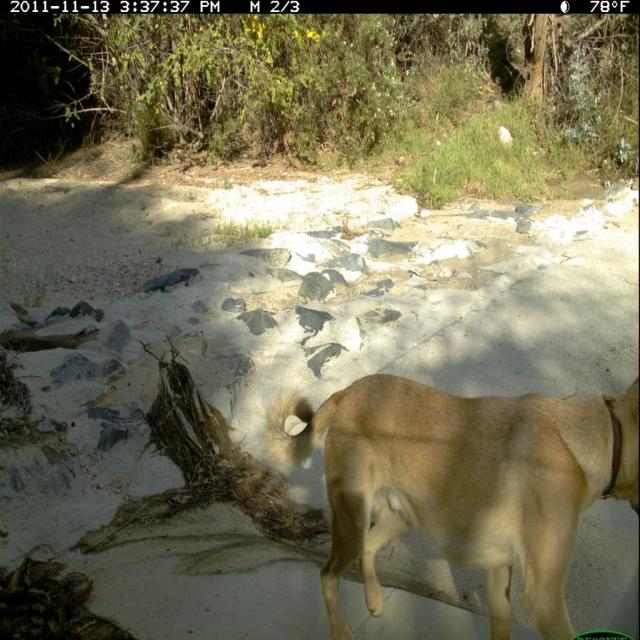dog: (261, 371, 640, 640)
